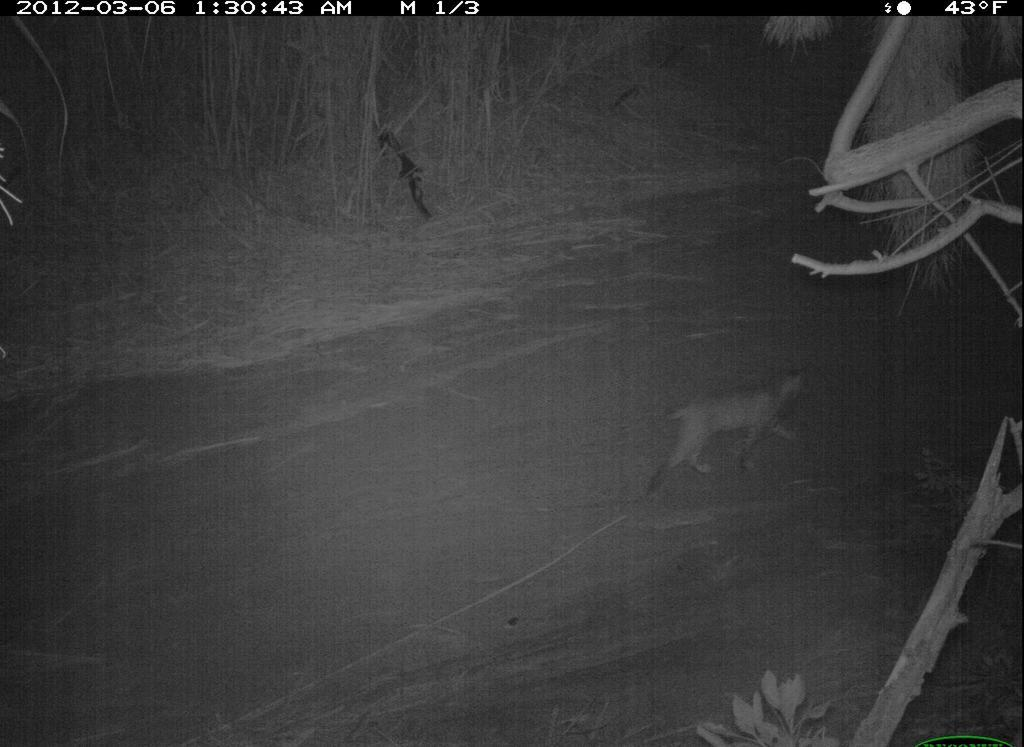bobcat: (638, 360, 812, 502)
